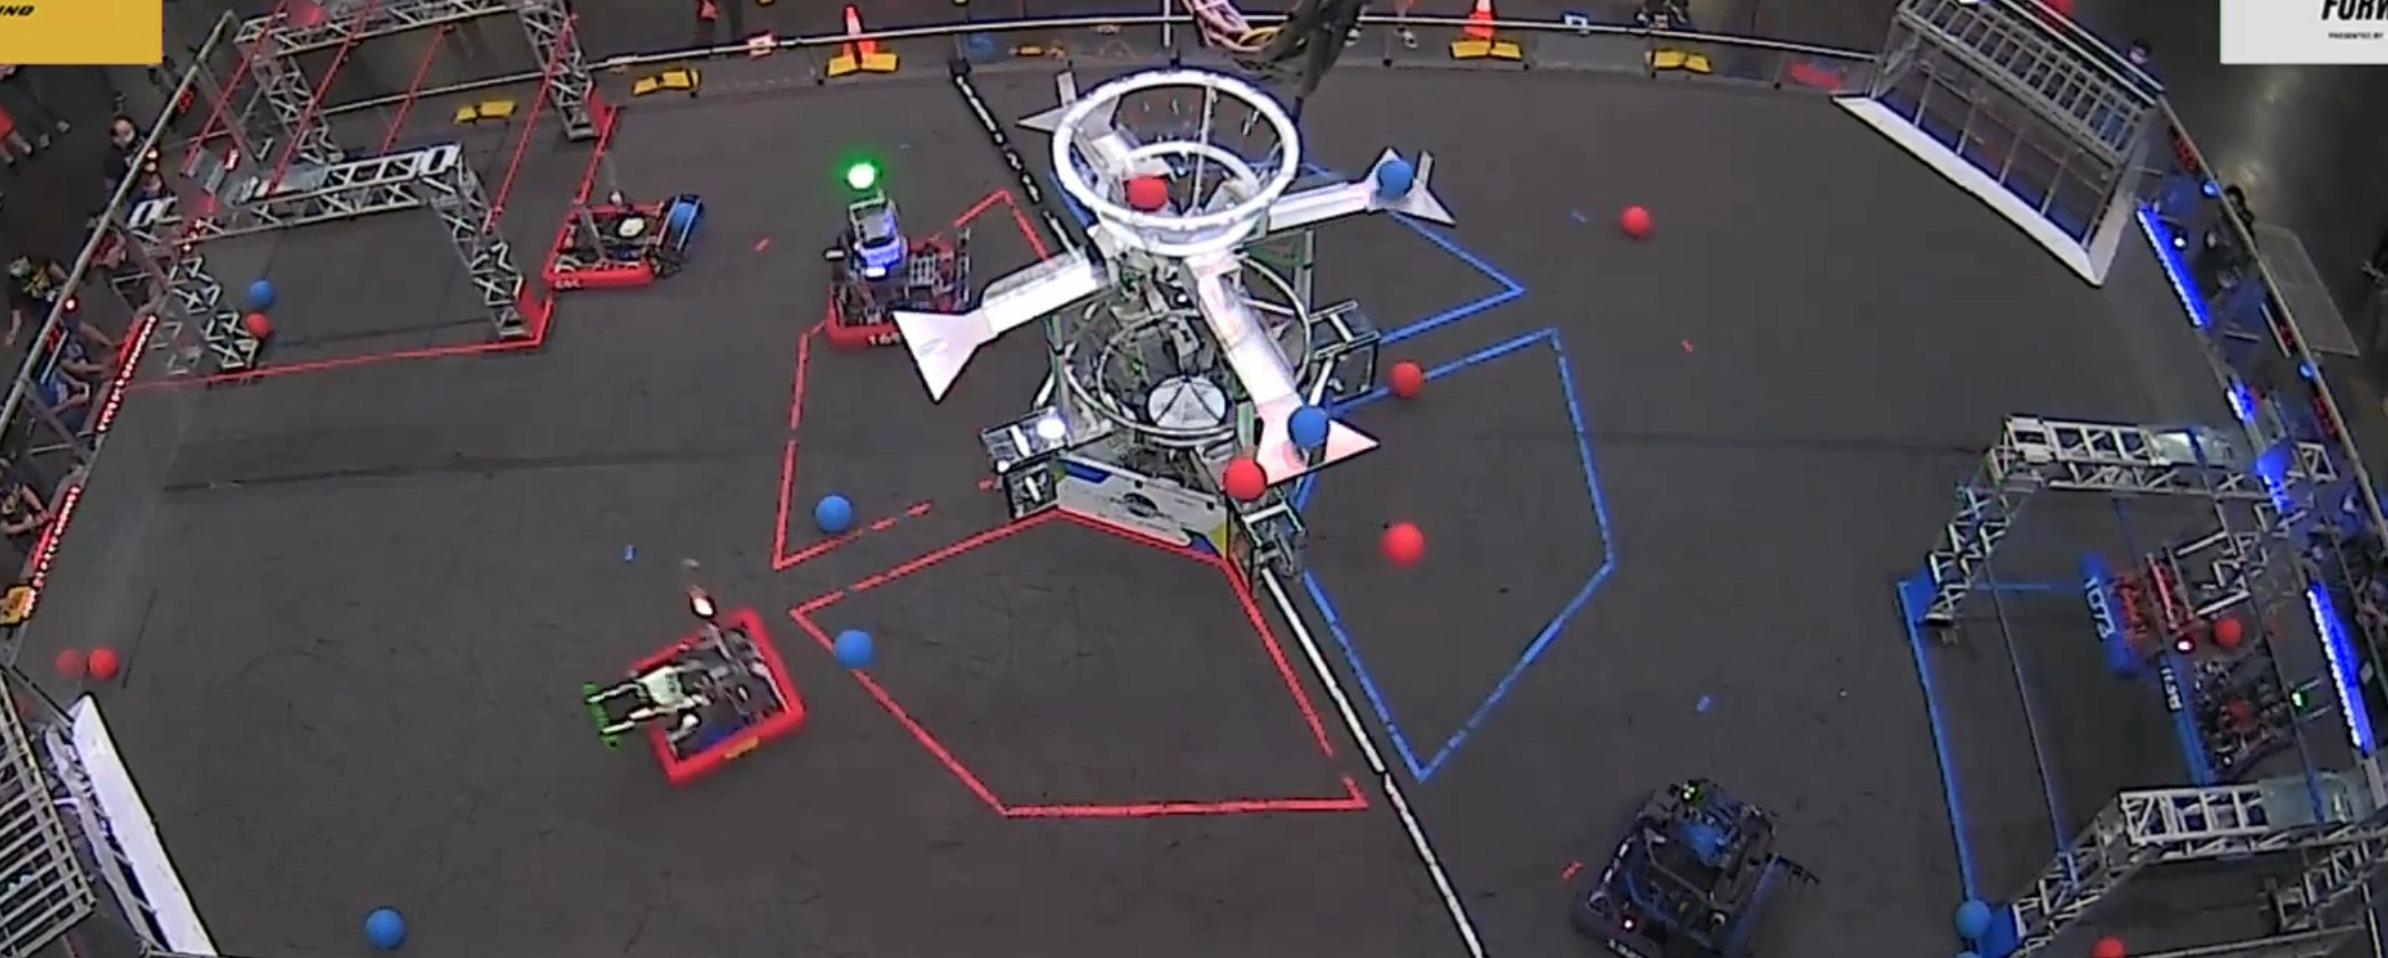Robots: (2062, 495, 2348, 653), (1569, 774, 1805, 956), (583, 580, 798, 777), (2158, 638, 2385, 794), (822, 187, 975, 343), (550, 187, 708, 292)
